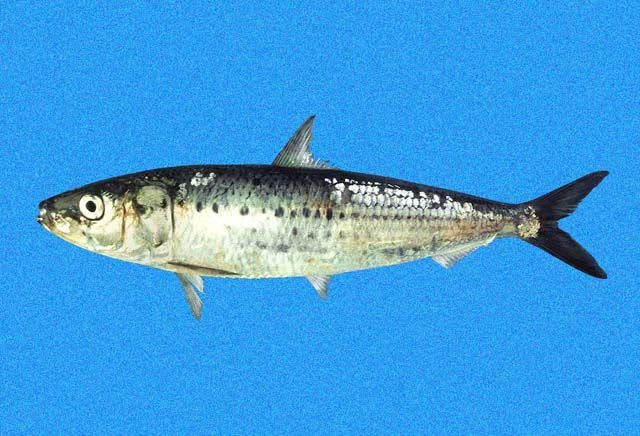fish: (36, 114, 608, 320)
